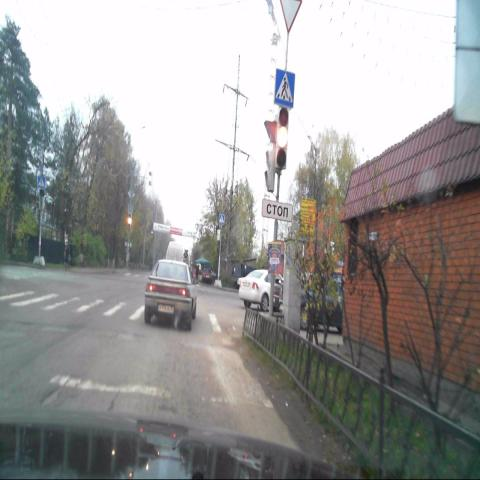6_16: (261, 199, 293, 222)
